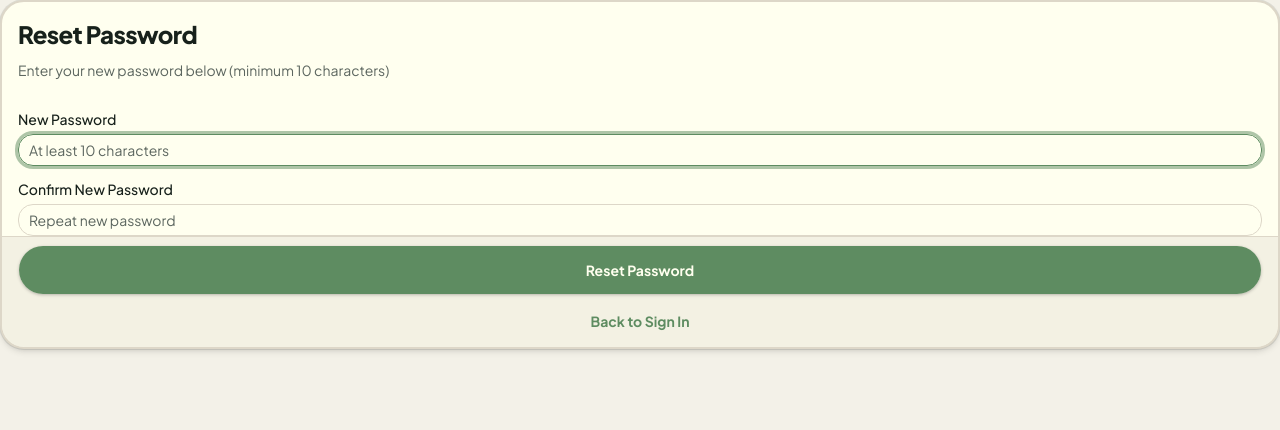
Test: Auth Email Pages Component Tests › ResetPasswordPage › validates password length and matching passwords before submit
This screenshot has width=1280, height=430.
Expected: the heading "Reset Password" is shown, [18,19,197,49]
// Short password
In the password field labelled "New Password": (640, 150) [18,134,1262,166], type "short"
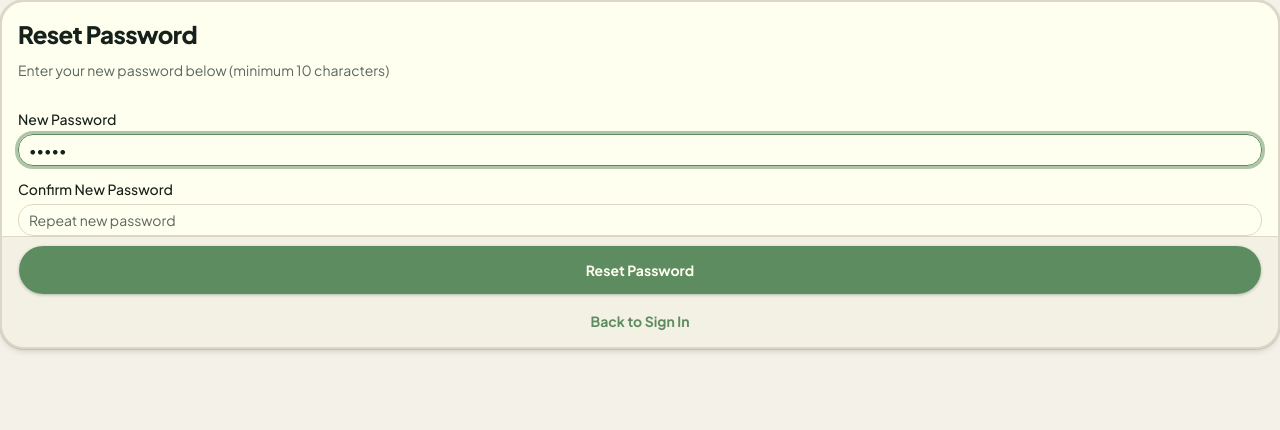
In the password field labelled "Confirm New Password": (640, 220) [18,204,1262,236], type "short"
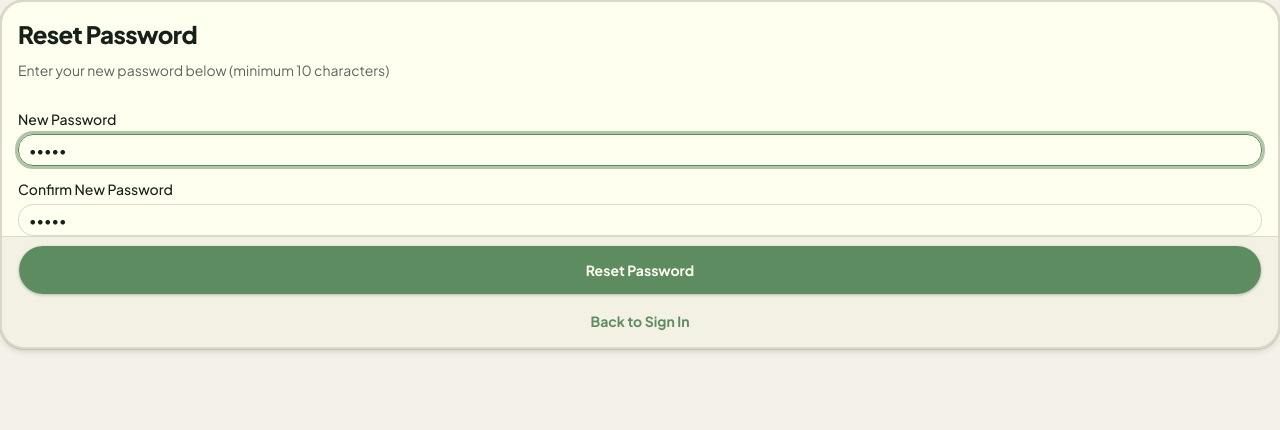
Click the button "Reset Password": click(640, 270) [18,245,1262,295]
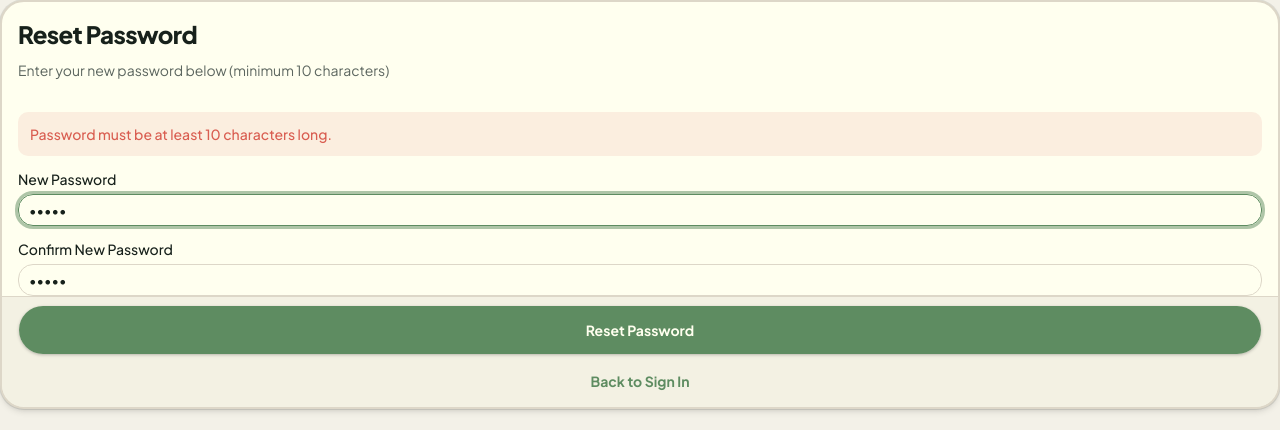
Now the text "Password must be at least 10 characters long." is shown, box [18,112,1262,156]
In the password field labelled "New Password": (640, 210) [18,194,1262,226], type "validpassword123"
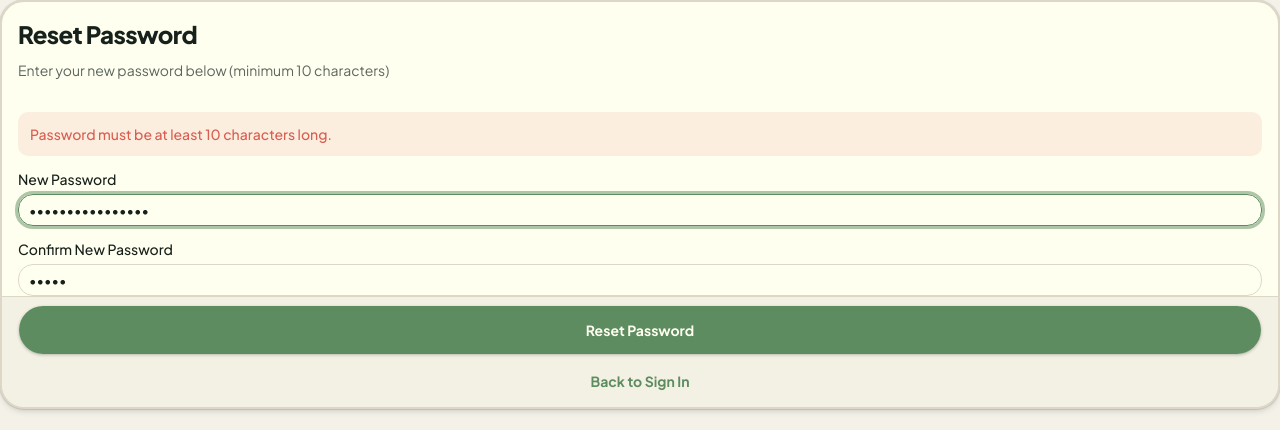
In the password field labelled "Confirm New Password": (640, 280) [18,264,1262,296], type "different123"
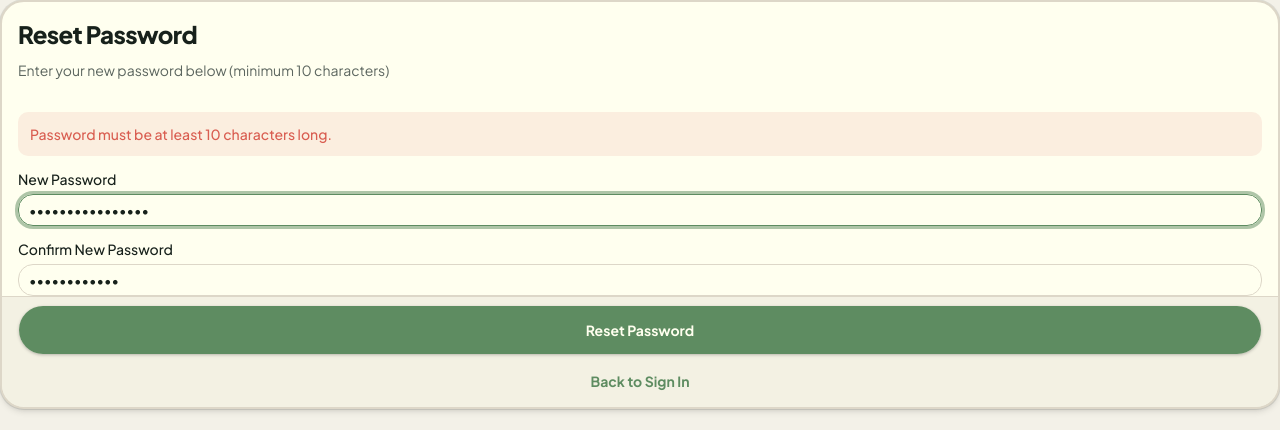
Click the button "Reset Password": click(640, 330) [18,305,1262,355]
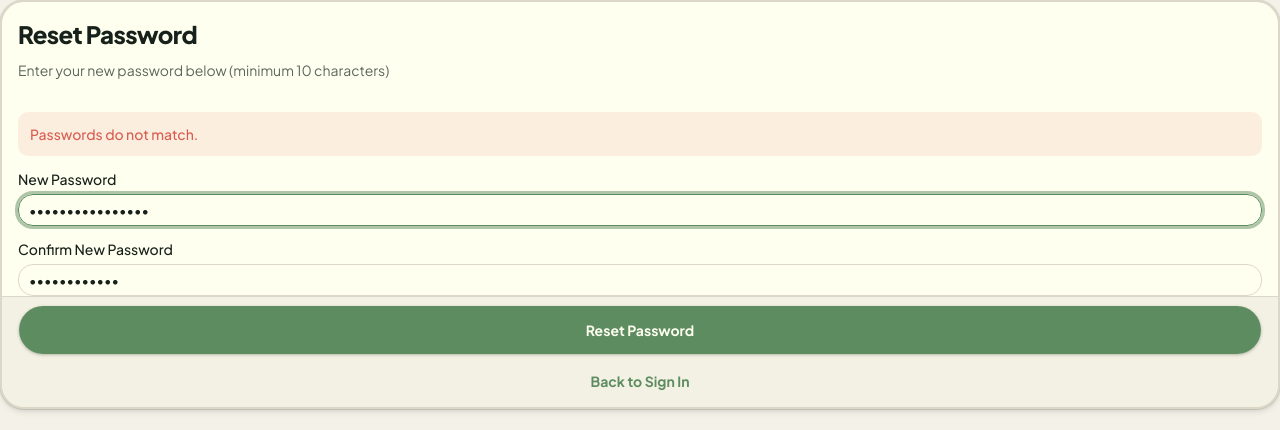
Now the text "Passwords do not match." is shown, box [18,112,1262,156]
